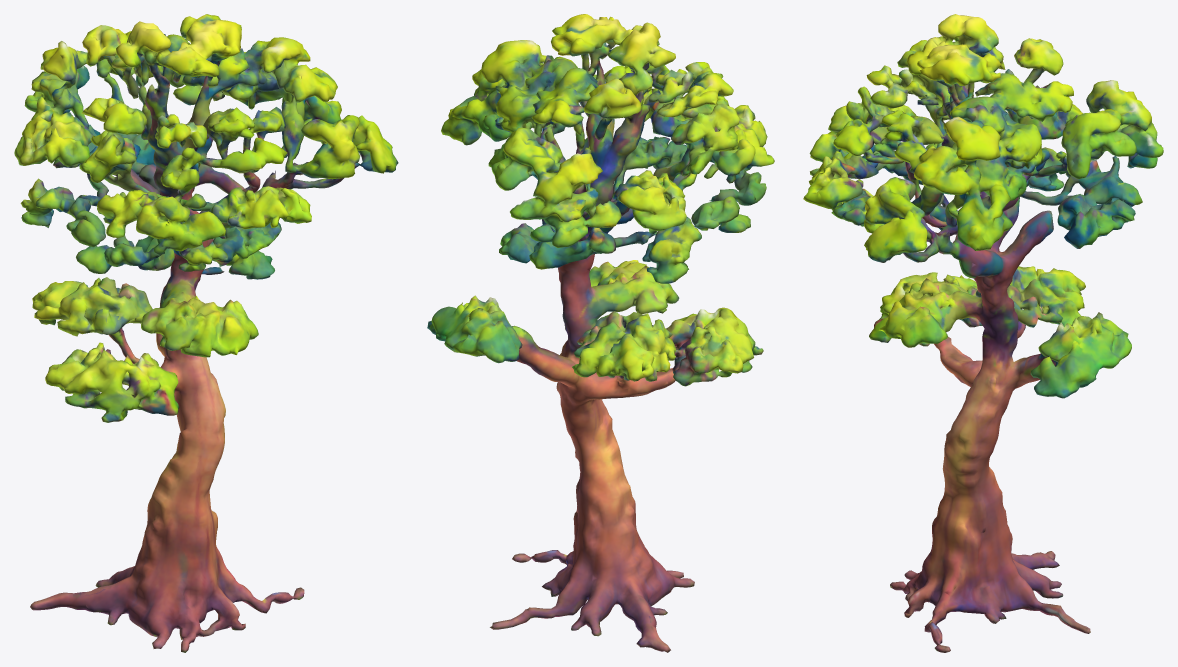
Rendered from KapokTree.fbx.
The picture shows the model from 3 angles, left to right: view 1: azimuth 30°, elevation 25°; view 2: azimuth 150°, elevation 25°; view 3: azimuth 270°, elevation 25°; orthographic projection. The views are drawn at different scales.
Parts seen in each view (by area): view 1: Pixelated_Tree_0926221902; view 2: Pixelated_Tree_0926221902; view 3: Pixelated_Tree_0926221902.
Boxes of the visible parts, x1,y1,x2,y2 form: Pixelated_Tree_0926221902: (14,14,398,652); Pixelated_Tree_0926221902: (427,14,774,652); Pixelated_Tree_0926221902: (803,14,1163,652).
Size of the model in its own units: 1772 by 3292 by 1866.
1 material, 1 textured.
